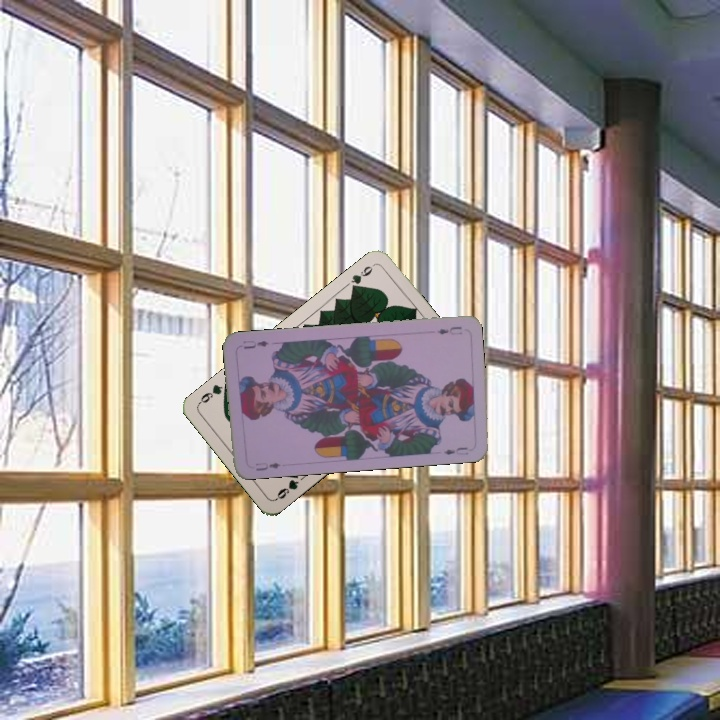EU: (433, 322, 465, 338), (252, 458, 283, 474)
G9: (271, 468, 302, 503), (347, 262, 375, 294)
